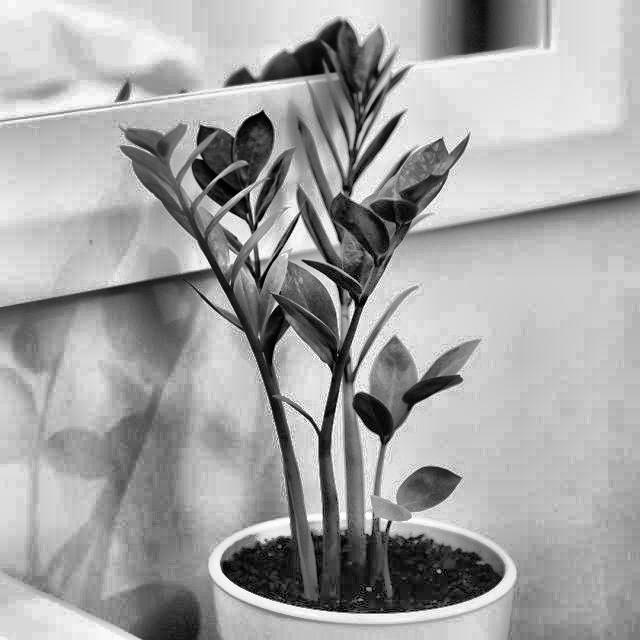plants: (141, 101, 524, 639)
